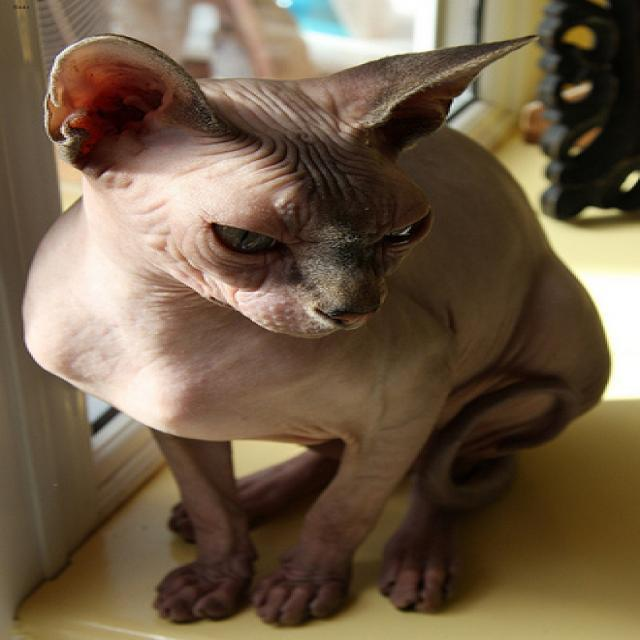Sphynx: (41, 33, 535, 337)
